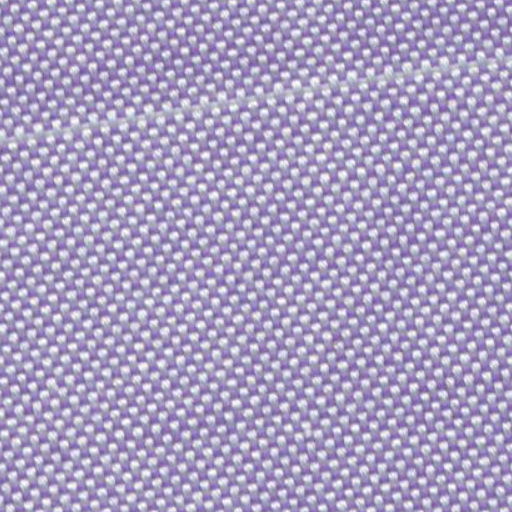TuoSha: (8, 40, 500, 158)
